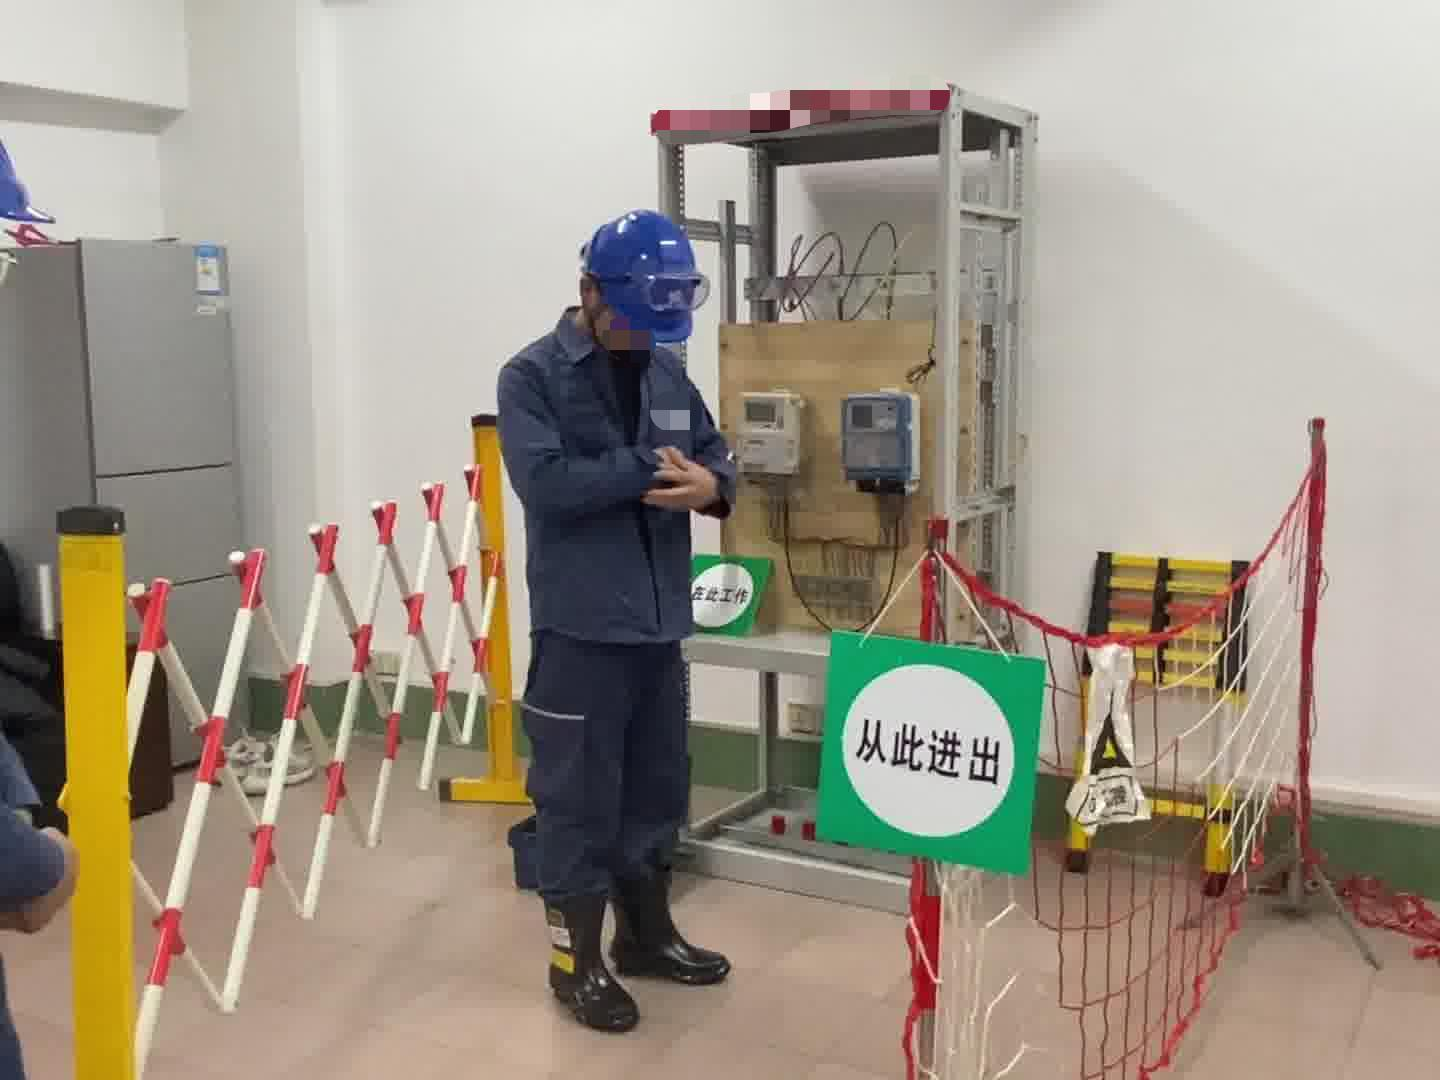halt: (581, 210, 706, 354)
